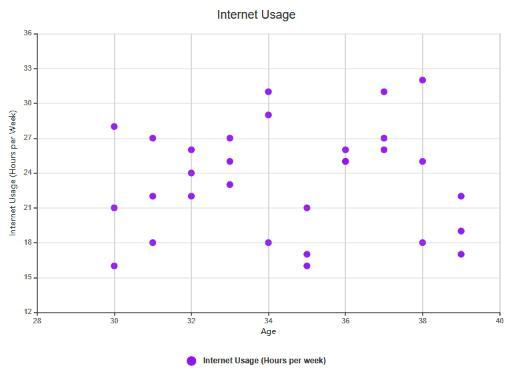axis: (37, 310, 503, 316), (33, 32, 40, 315)
point: (264, 108, 274, 120), (148, 133, 158, 144), (263, 86, 273, 97), (379, 86, 390, 96), (418, 74, 428, 85), (225, 179, 235, 190), (109, 203, 120, 213), (263, 238, 274, 248), (110, 120, 119, 132), (186, 191, 196, 201), (456, 226, 467, 235), (225, 134, 235, 143), (148, 191, 157, 201), (302, 261, 312, 270), (341, 157, 351, 166), (417, 157, 427, 166), (457, 249, 466, 259), (186, 146, 197, 154), (147, 239, 158, 247), (378, 134, 389, 142), (187, 168, 196, 177), (302, 203, 311, 212), (341, 145, 350, 154), (457, 191, 466, 200), (226, 156, 234, 166), (379, 146, 389, 154), (418, 239, 428, 247), (109, 262, 119, 270), (303, 250, 312, 258)
